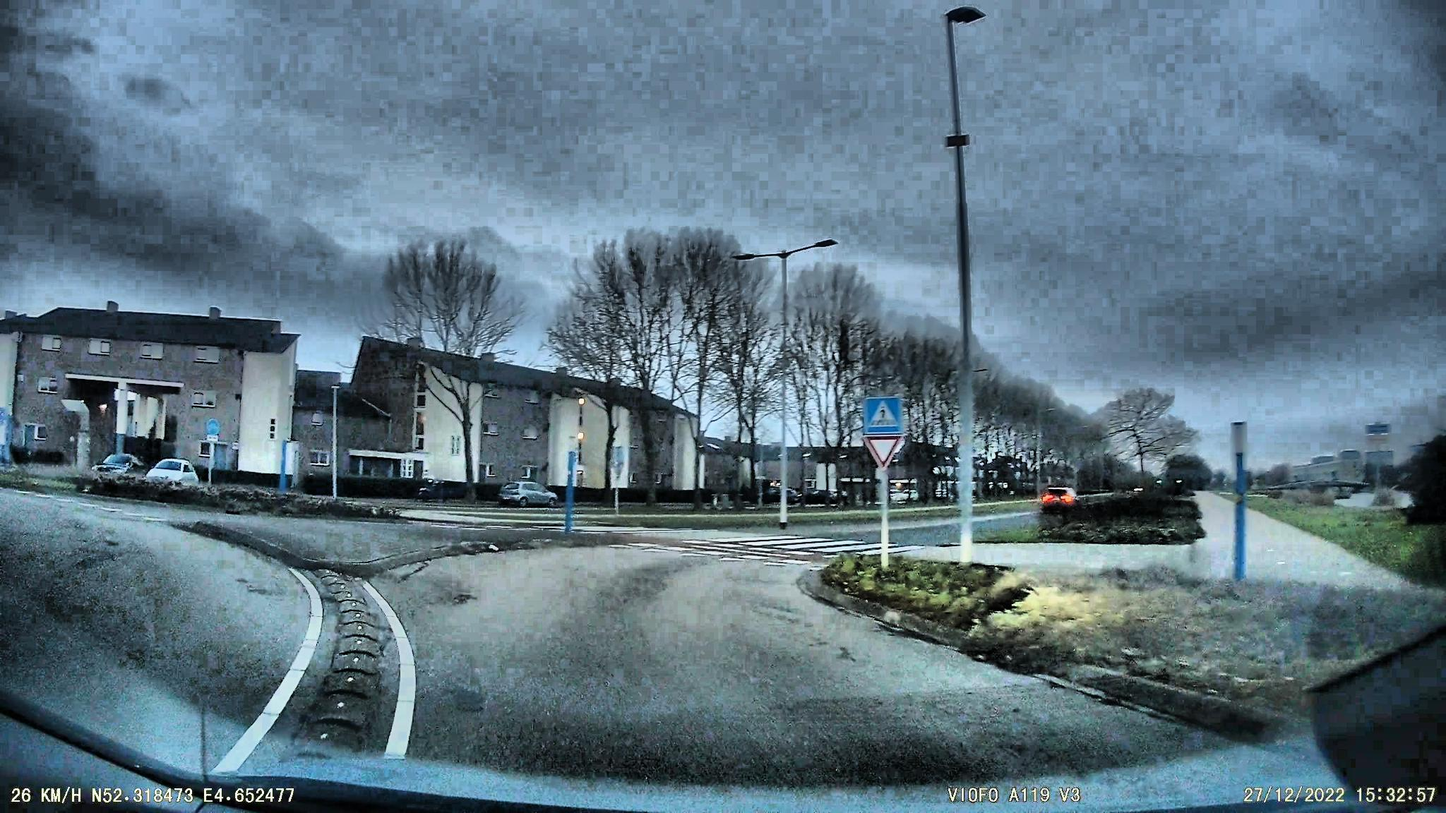Roads: (0, 491, 1446, 813)
